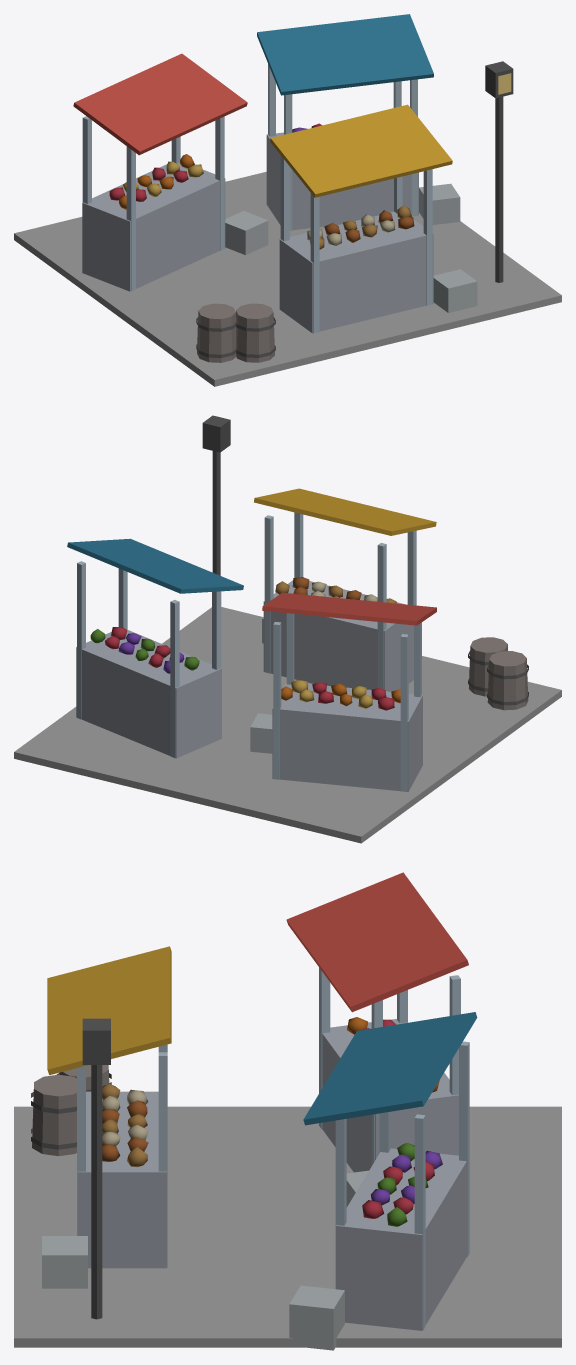
Rendered from market.glb.
The picture shows the model from 3 angles, top to bottom: view 1: azimuth 30°, elevation 25°; view 2: azimuth 150°, elevation 25°; view 3: azimuth 270°, elevation 25°; orthographic projection. The views are drawn at different scales.
Visible parts, largest first — view 1: market; view 2: market; view 3: market.
Boxes of the visible parts, x1=… form: market: x1=14, y1=14, x2=561, y2=386; market: x1=14, y1=415, x2=561, y2=843; market: x1=14, y1=872, x2=561, y2=1350.
Bounding box in the file's own units: 4.38 × 2.61 × 4.3.
